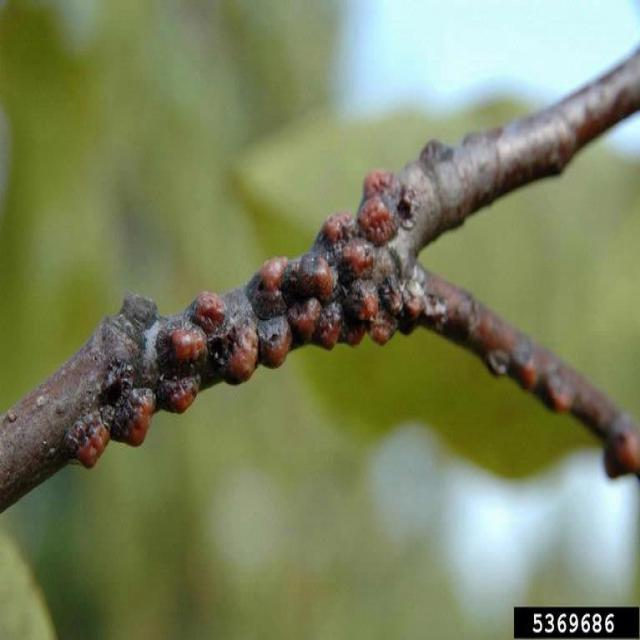Black Scale: (58, 171, 411, 468)
